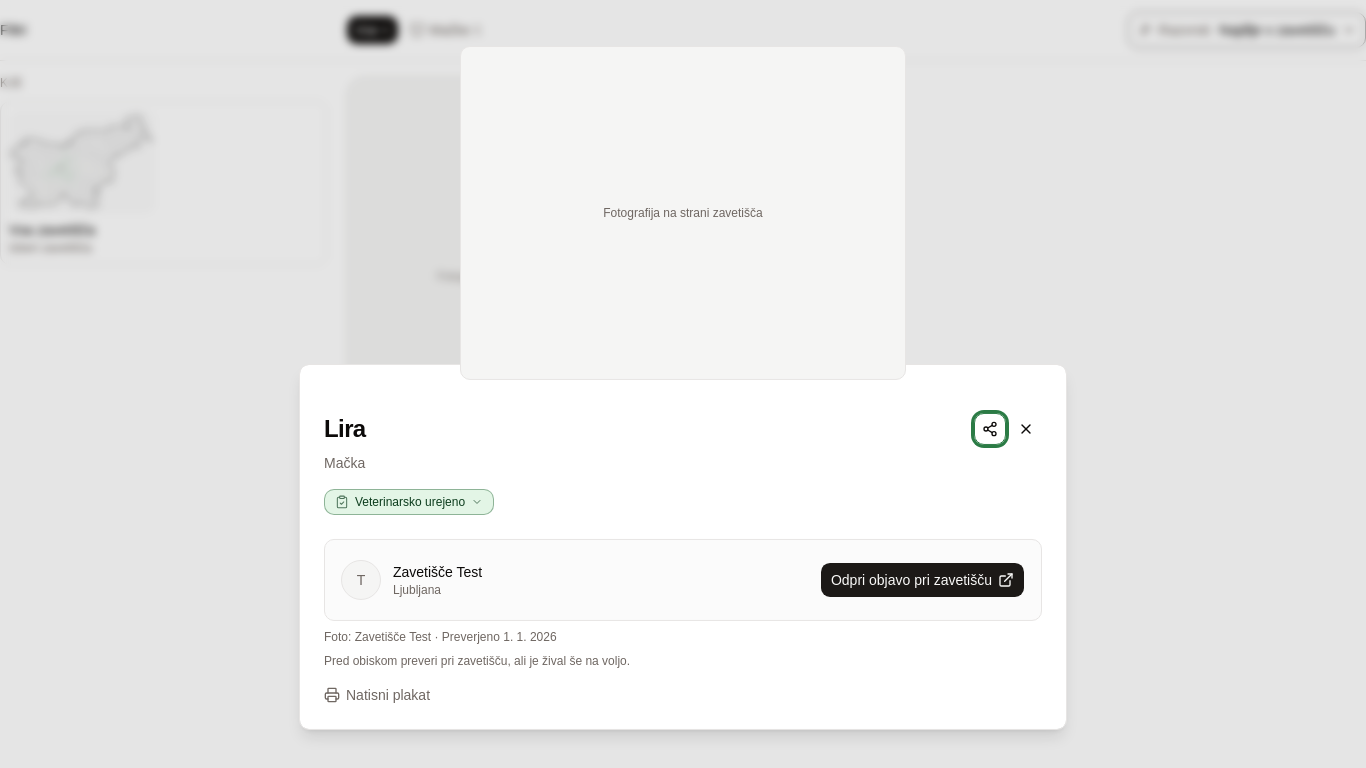
Test: animal dialog › folds a complete health record into one line until asked
Expected: the text "Sterilizacija" is not shown
Step 1. Click the button "Veterinarsko urejeno" → click(409, 502), box [324,489,494,515]
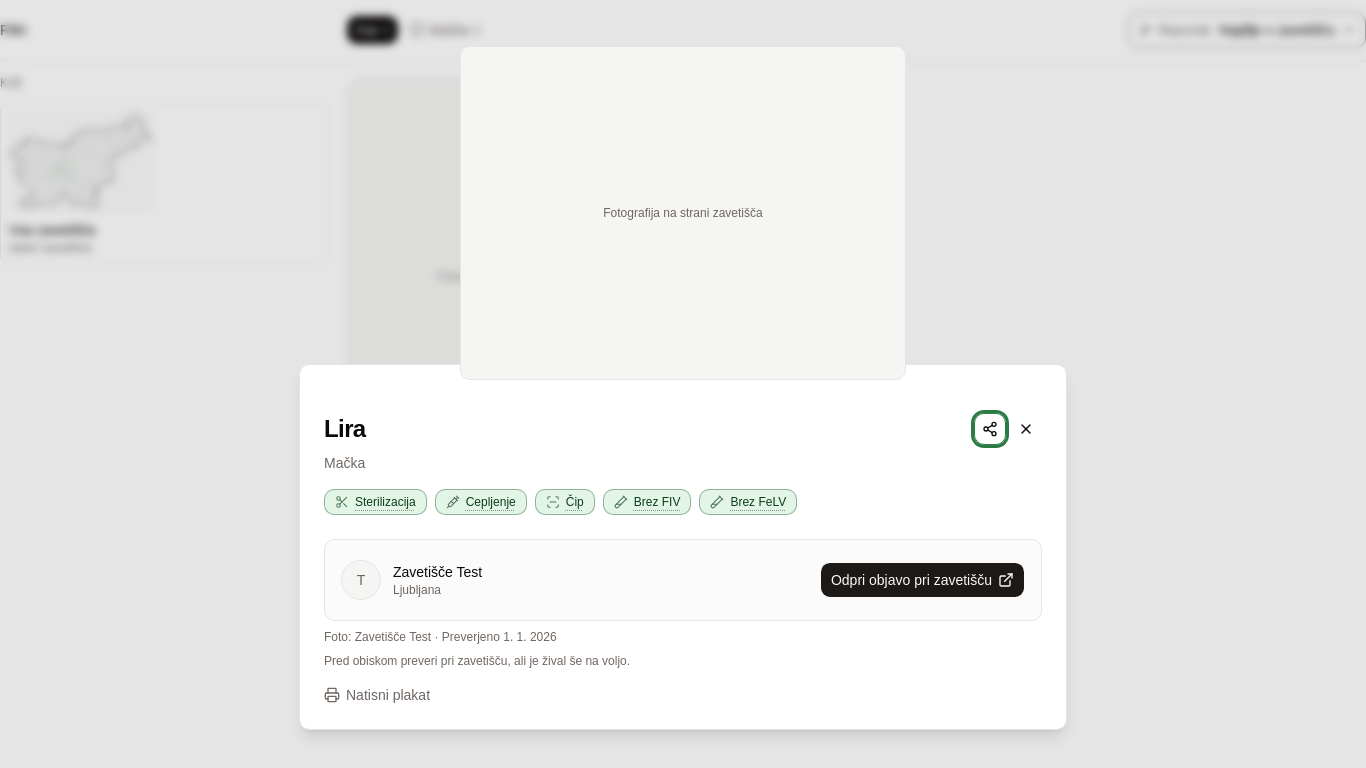
Expected: the text "Sterilizacija" is shown, [355,494,416,510]
Expected: the text "Brez FeLV" is shown, [730,494,786,510]
